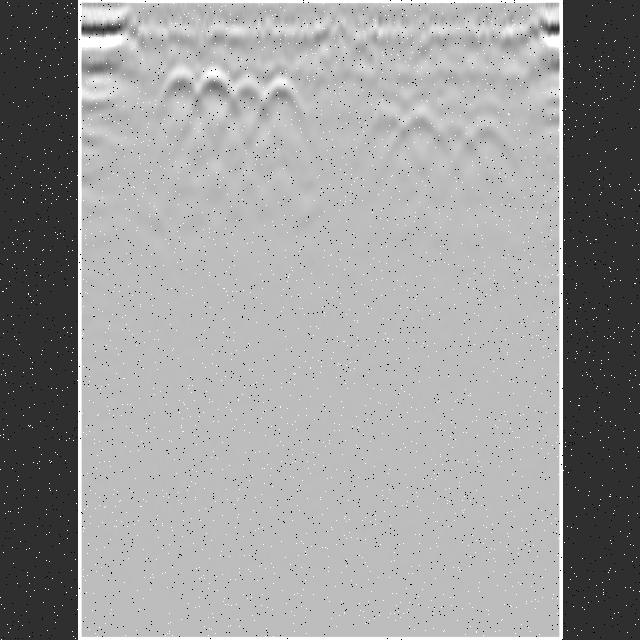hyperbola: (464, 112, 516, 170), (398, 105, 448, 157), (361, 102, 411, 152), (431, 112, 473, 162), (256, 74, 304, 110), (191, 66, 239, 102), (228, 70, 270, 108), (160, 62, 200, 98)
